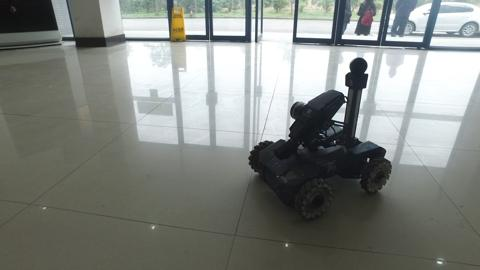car: (385, 1, 479, 38)
chariot: (248, 56, 392, 222)
